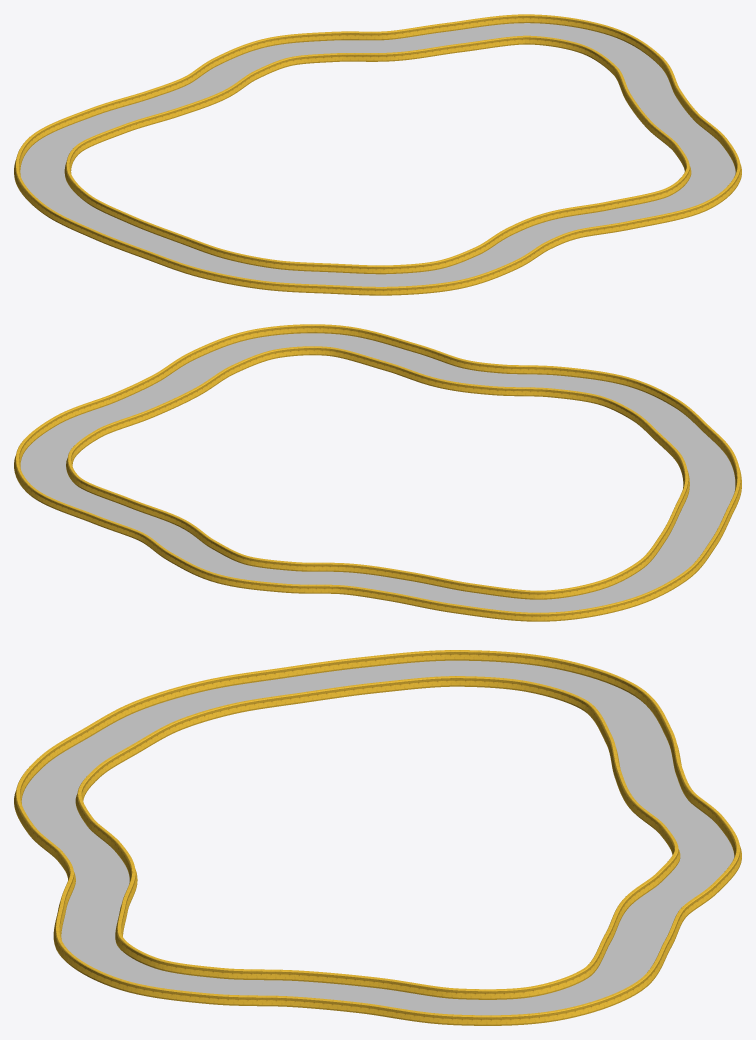
File: Track02.fbx
The picture shows the model from 3 angles, top to bottom: view 1: azimuth 30°, elevation 25°; view 2: azimuth 150°, elevation 25°; view 3: azimuth 270°, elevation 25°; orthographic projection. The views are drawn at different scales.
Visible parts, largest first — view 1: Track2, Barrier2; view 2: Track2, Barrier2; view 3: Track2, Barrier2.
Boxes of the visible parts, x1,y1,x2,y2 form: Track2: (20, 23, 735, 286); Barrier2: (14, 14, 741, 295); Track2: (20, 333, 735, 612); Barrier2: (14, 324, 741, 621); Track2: (21, 660, 734, 1015); Barrier2: (14, 650, 741, 1025).
Size of the model in its own units: 56544 by 47202 by 604.
